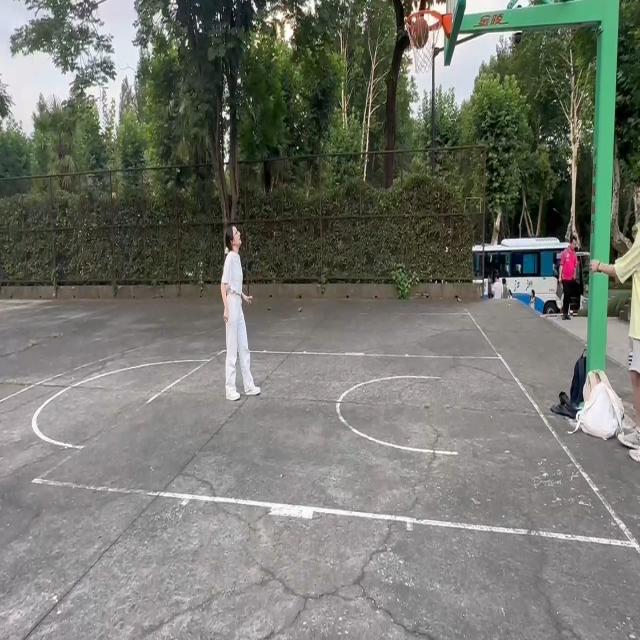basketball: (406, 7, 453, 99)
rim: (411, 19, 431, 47)
